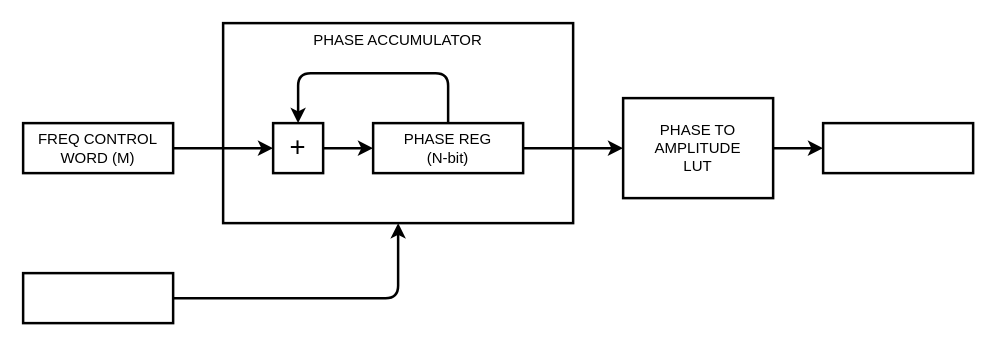
Some shapes in this 995 by 345 pixel diagram are drawn without their labels. Each missing label, with the box of its shape:
AMPLITUDE OUTPUT: (821, 121, 974, 174)
CLK (Fc): (21, 271, 174, 324)
